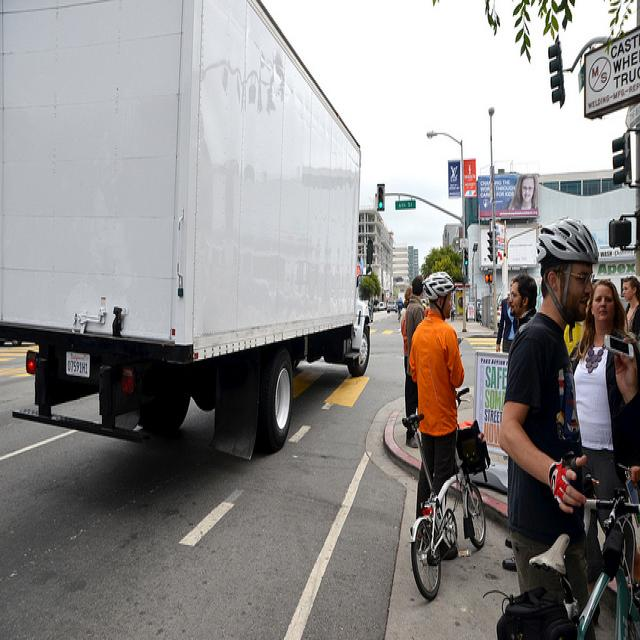Vehicle: (0, 1, 375, 459), (387, 299, 398, 313)
